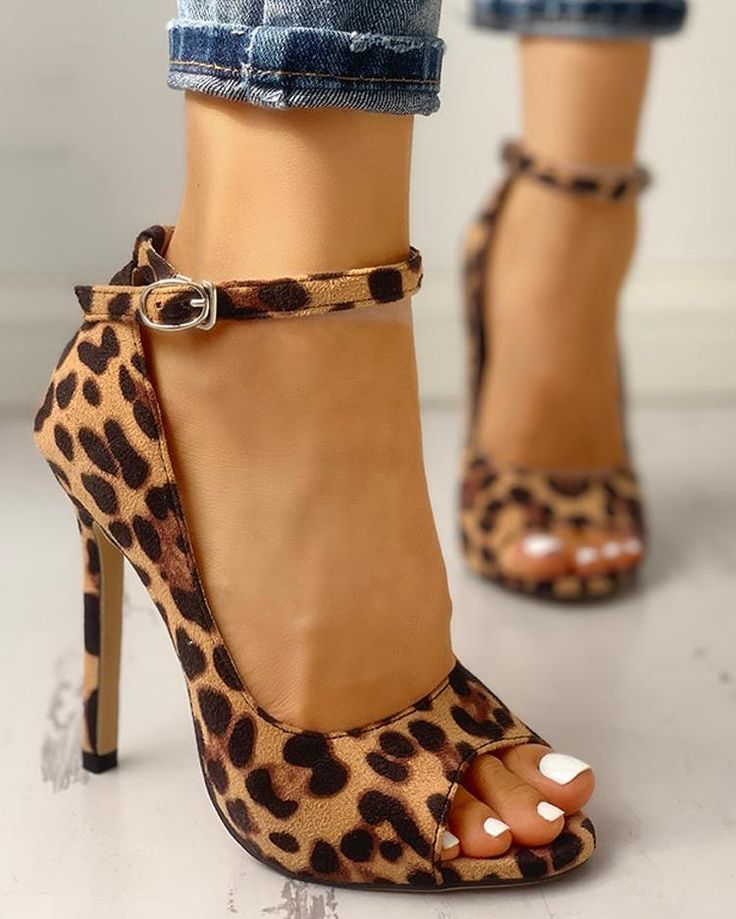gamuza: (30, 227, 597, 887)
